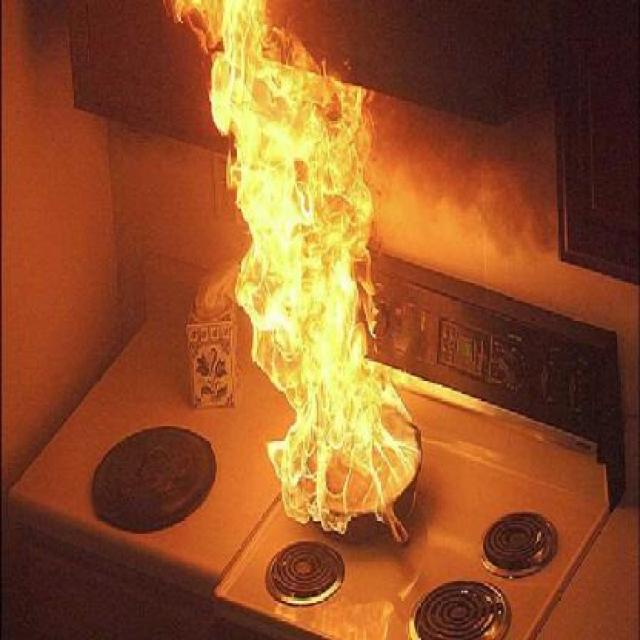Fire: (182, 0, 444, 558)
Smoke: (2, 0, 640, 258)
